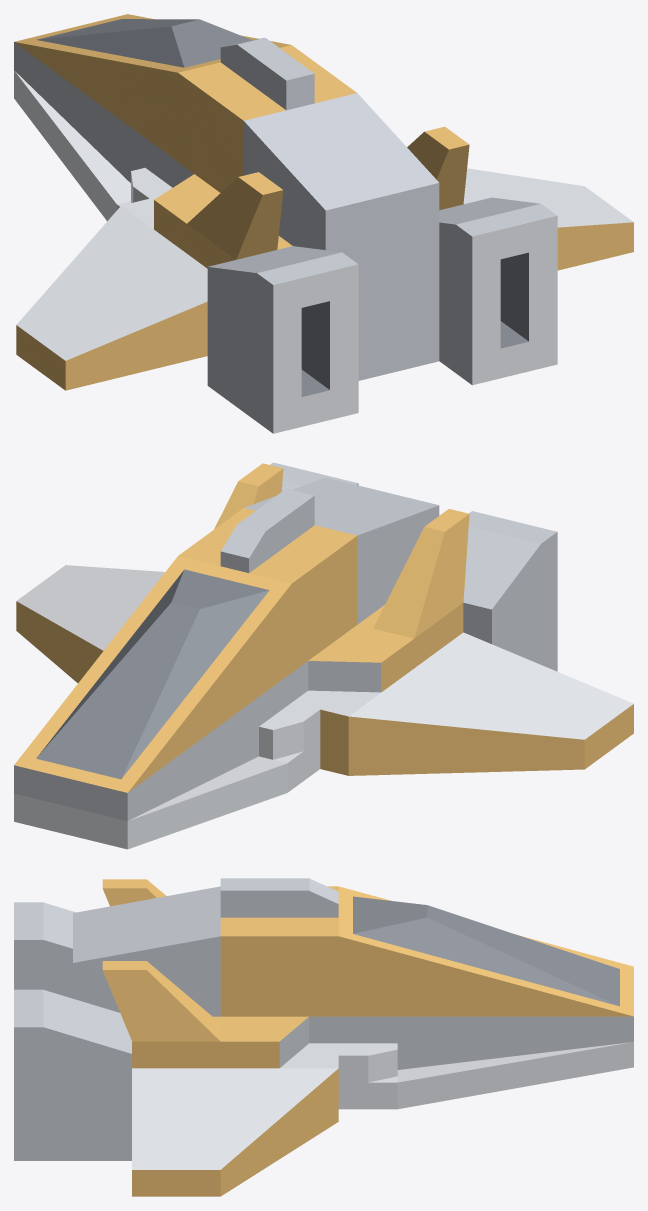
File: unit_raider.glb
The picture shows the model from 3 angles, top to bottom: view 1: azimuth 30°, elevation 25°; view 2: azimuth 150°, elevation 25°; view 3: azimuth 270°, elevation 25°; orthographic projection. The views are drawn at different scales.
Parts seen in each view (by area): view 1: craft_speederA; view 2: craft_speederA; view 3: craft_speederA.
Part boxes in pixels (bbox=[...]): craft_speederA: bbox=[14, 14, 633, 433]; craft_speederA: bbox=[14, 462, 633, 849]; craft_speederA: bbox=[14, 878, 633, 1196].
Size of the model in its own units: 1.45 by 0.58 by 1.52.
